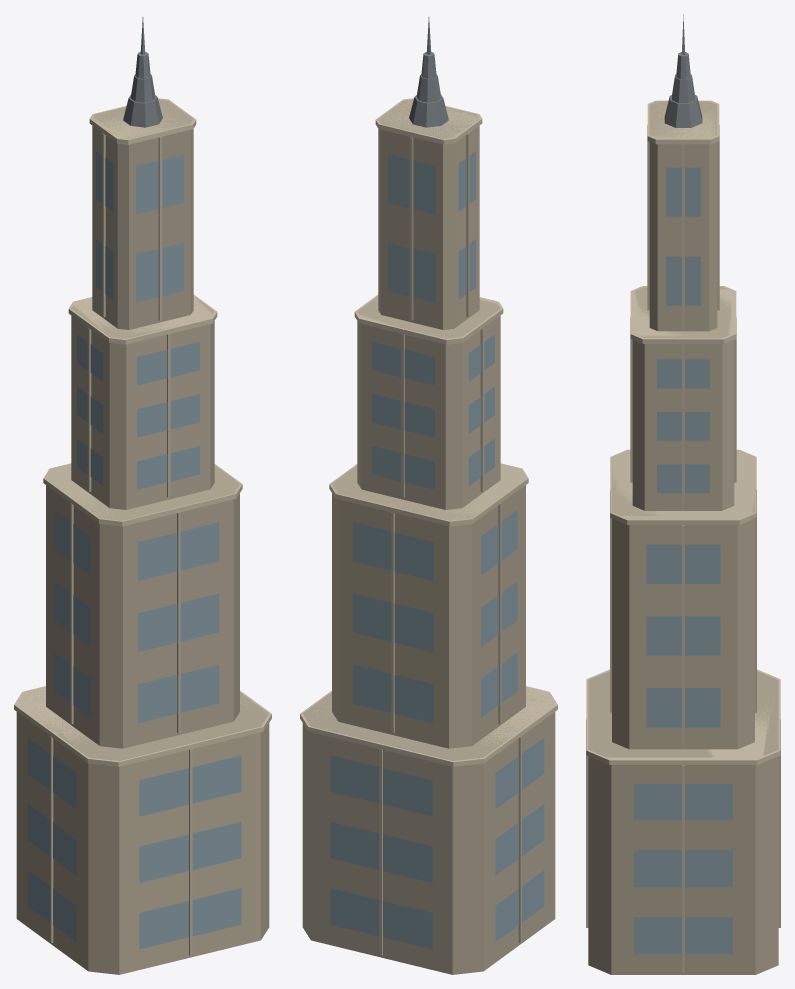
The picture shows the model from 3 angles, left to right: view 1: azimuth 30°, elevation 25°; view 2: azimuth 150°, elevation 25°; view 3: azimuth 270°, elevation 25°; orthographic projection.
Parts seen in each view (by area): view 1: deco-spire-lod2; view 2: deco-spire-lod2; view 3: deco-spire-lod2.
Boxes of the visible parts, left/top/right/bottom form: deco-spire-lod2: left=14, top=17, right=271, bottom=974; deco-spire-lod2: left=300, top=17, right=557, bottom=974; deco-spire-lod2: left=586, top=14, right=780, bottom=974.
Bounding box in the file's own units: 76 × 357 × 68.8.
